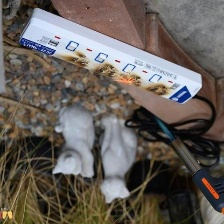three_eye_plug: (17, 5, 205, 104)
